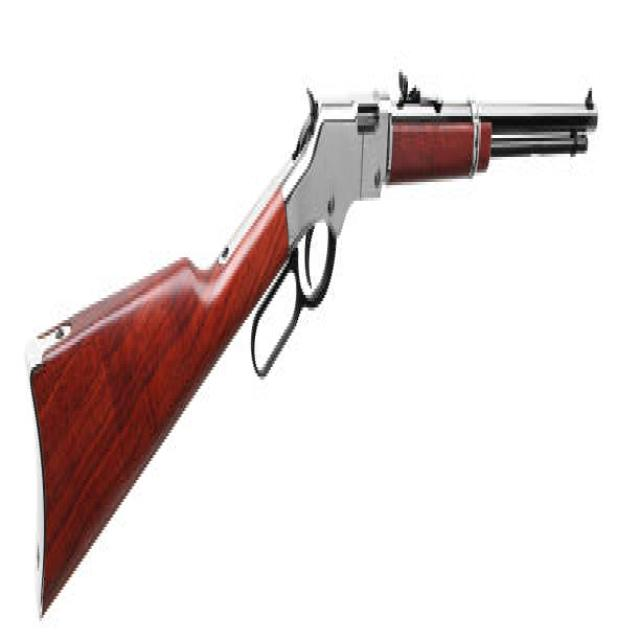rifle: (27, 60, 603, 639)
